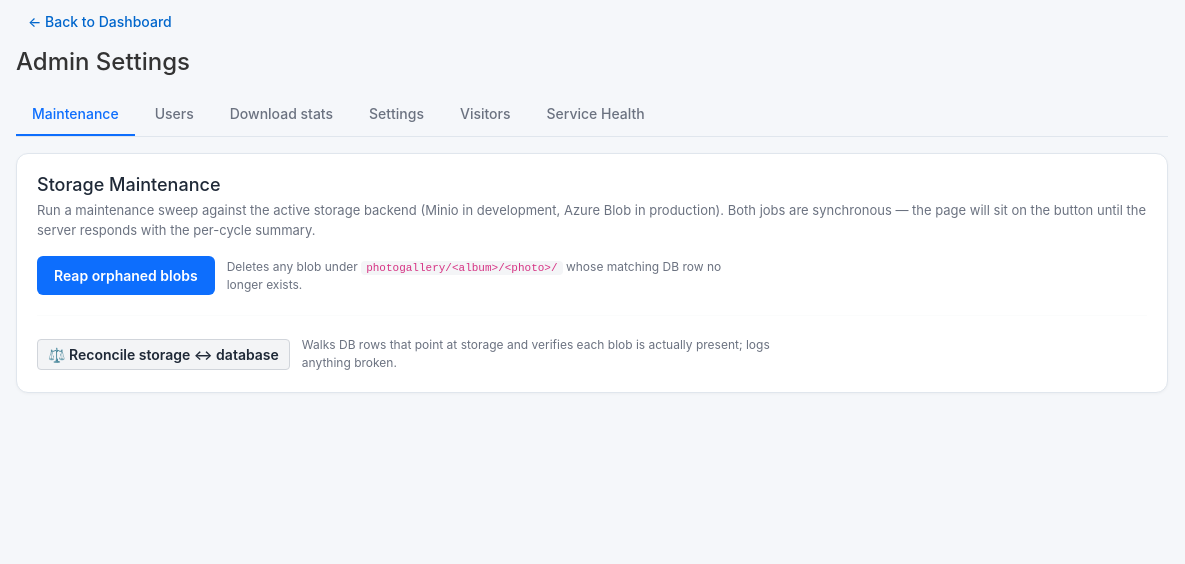
Test case: AdminSettingsComponent › reconcile-storage button enqueues a worker job and renders the summary on completion
The image size is (1185, 564).
Click the button with test id "admin-reconcile-storage-button" at (163, 354), box [37,339,290,370]
Wait 2100 ms
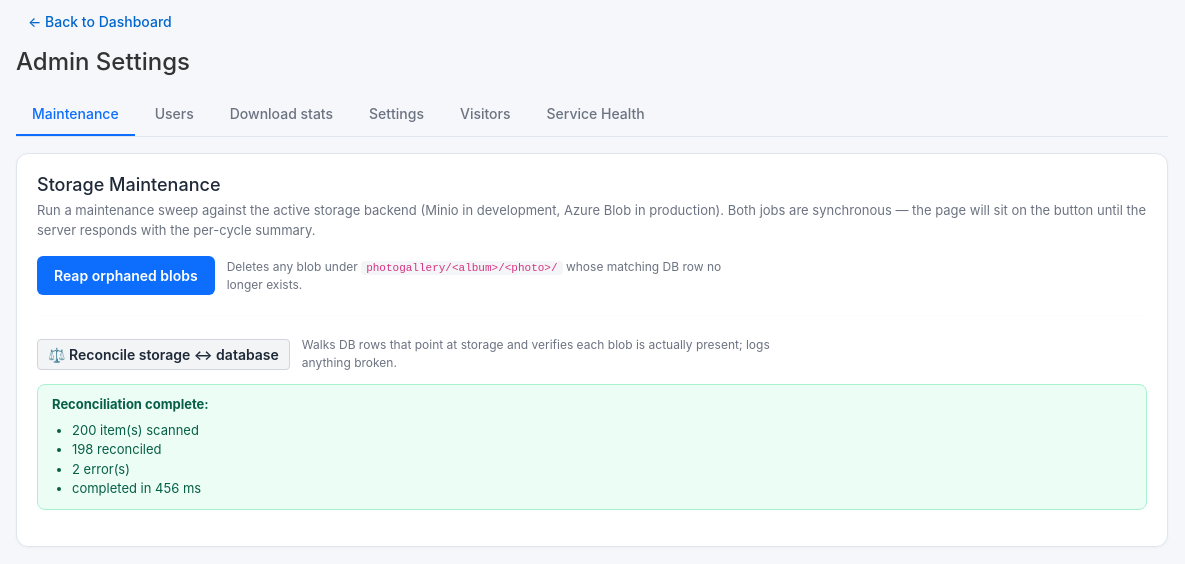
expect the element with test id "admin-reconcile-report" is shown: met, box [37,384,1147,510]
expect the element with test id "admin-reconcile-report" shows "200": met, box [72,422,199,438]
expect the element with test id "admin-reconcile-report" shows "456": met, box [72,480,201,496]
